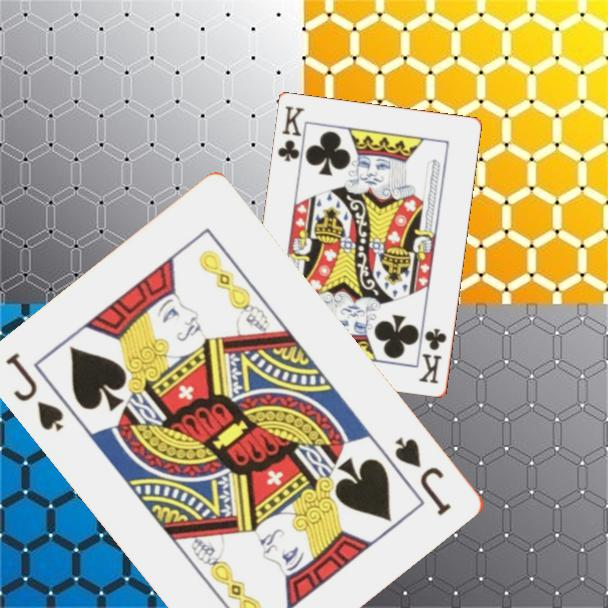c13: (416, 325, 450, 387), (274, 103, 308, 165)
s11: (2, 349, 68, 435), (391, 433, 455, 519)
